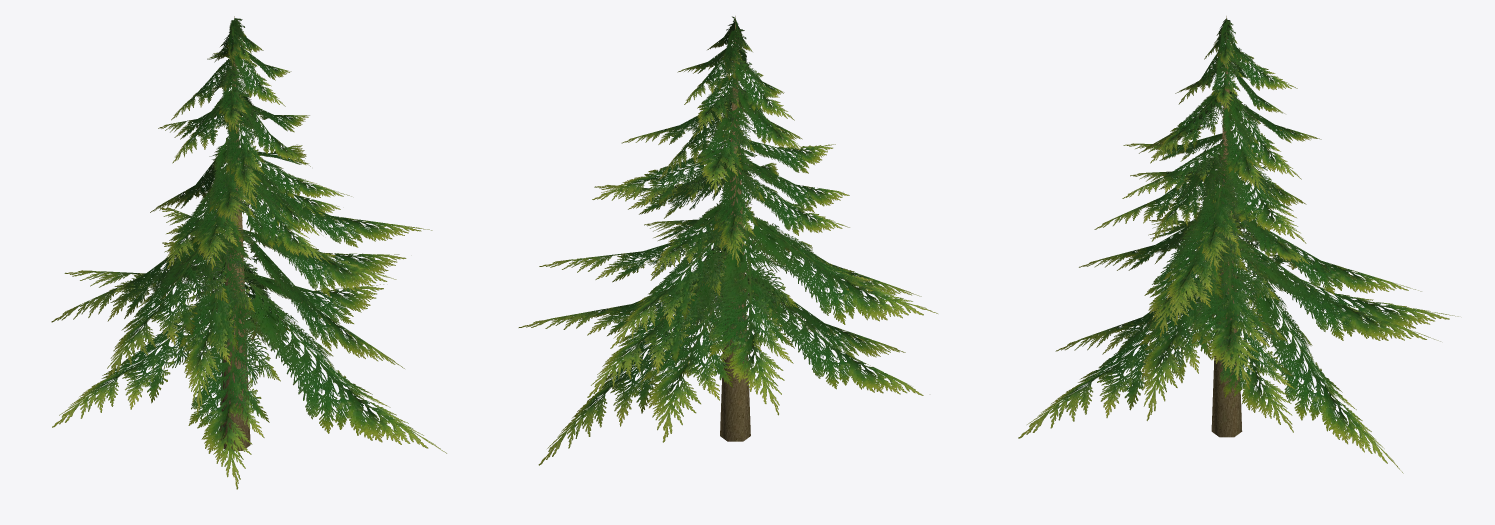
File: arbo_pine_tree.glb
3 views of the same model, side by side, from view 1: azimuth 30°, elevation 25°; view 2: azimuth 150°, elevation 25°; view 3: azimuth 270°, elevation 25° (orthographic). The views are drawn at different scales.
Parts seen in each view (by area): view 1: Tree.001_Tree_0; view 2: Tree.001_Tree_0; view 3: Tree.001_Tree_0.
Boxes of the visible parts, x1,y1,x2,y2 form: Tree.001_Tree_0: [51, 16, 446, 489]; Tree.001_Tree_0: [518, 16, 937, 465]; Tree.001_Tree_0: [1018, 16, 1458, 473].
Bounding box in the file's own units: 13.28 × 14 × 14.43.
Materials: 1 (1 with a texture image).
